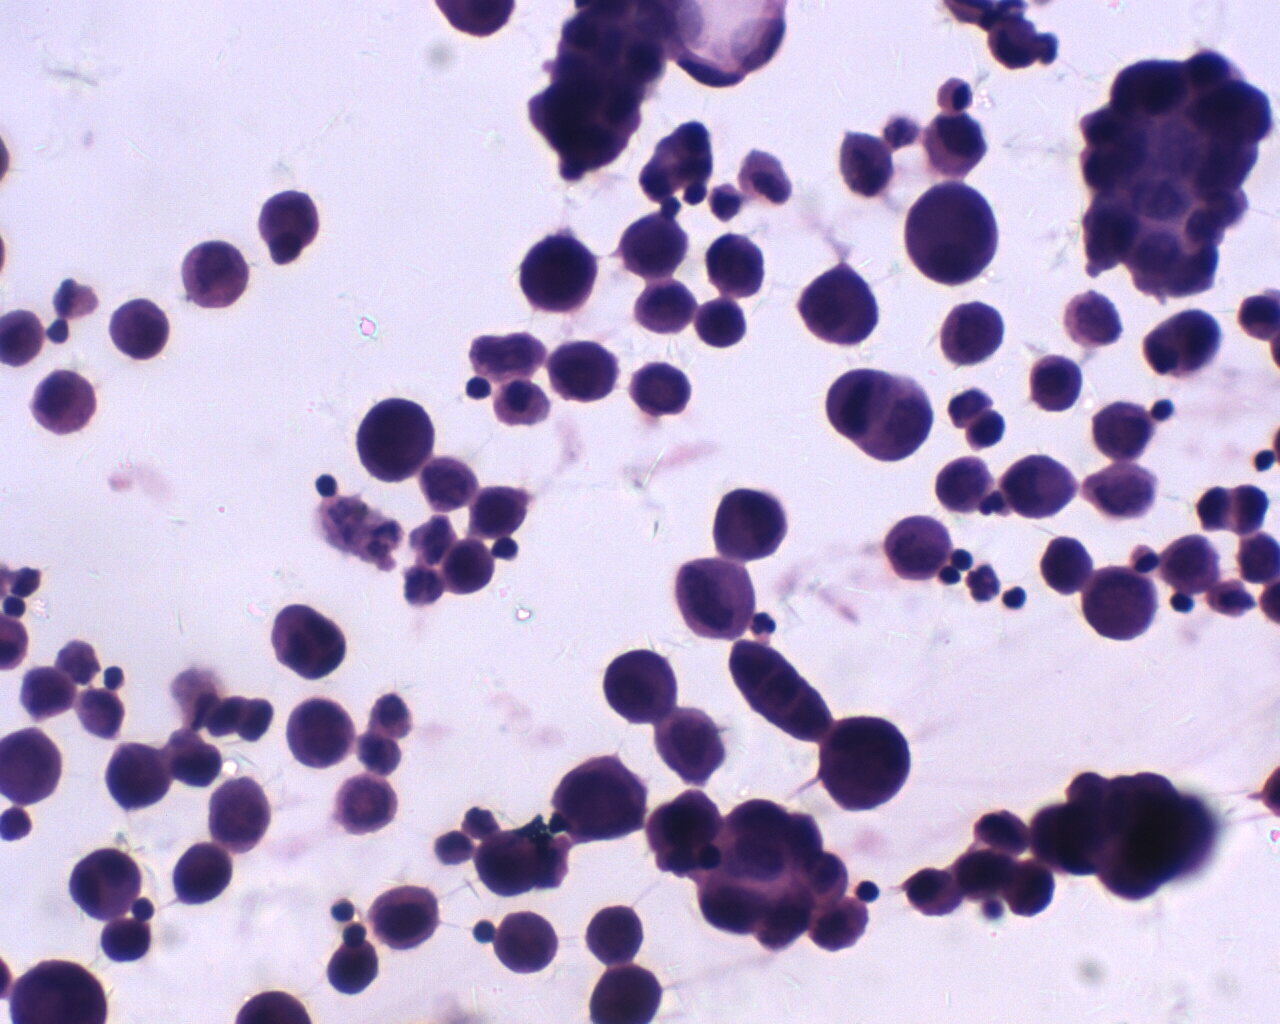ab: (905, 181, 998, 288), (818, 715, 912, 815), (558, 757, 648, 843), (796, 255, 879, 343), (515, 233, 595, 315), (708, 484, 791, 562), (355, 399, 435, 480), (1084, 564, 1160, 644), (656, 709, 734, 787), (603, 645, 676, 725), (368, 881, 448, 954), (285, 696, 360, 769), (104, 294, 171, 367), (938, 302, 1013, 367), (1089, 399, 1154, 460)
lymph: (1000, 581, 1024, 614)
meso: (29, 370, 99, 438), (490, 377, 552, 430)
